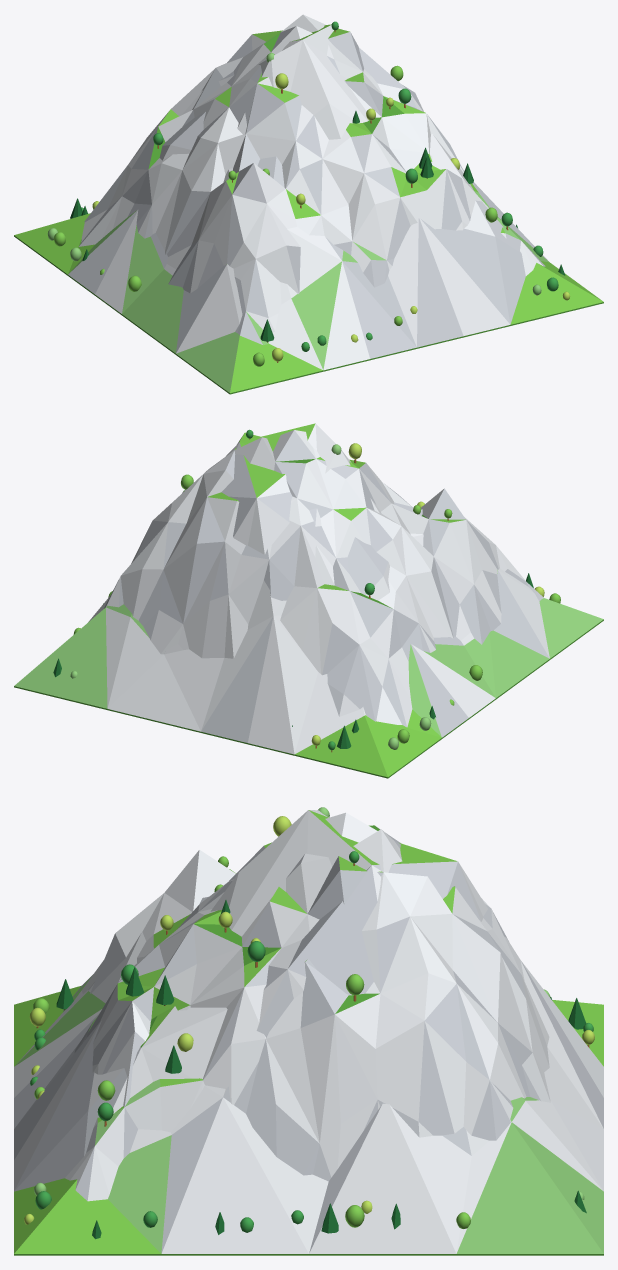
Rendered from montanha_enorme.glb.
3 renders of one model, top to bottom at view 1: azimuth 30°, elevation 25°; view 2: azimuth 150°, elevation 25°; view 3: azimuth 270°, elevation 25°, orthographic. The views are drawn at different scales.
Visible parts, largest first — view 1: montanha_enorme, colisao_montanha; view 2: montanha_enorme, colisao_montanha; view 3: colisao_montanha, montanha_enorme.
Boxes of the visible parts, x1,y1,x2,y2 form: montanha_enorme: [14, 14, 603, 393]; colisao_montanha: [14, 24, 603, 394]; montanha_enorme: [15, 429, 602, 777]; colisao_montanha: [14, 423, 603, 778]; colisao_montanha: [14, 810, 603, 1255]; montanha_enorme: [14, 807, 603, 1255].
Size of the model in its own units: 90 by 53.74 by 90.
1 material, 1 textured.
